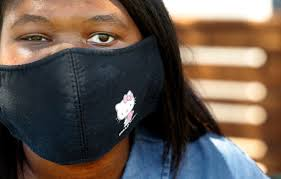with-mask: (1, 1, 171, 168)
